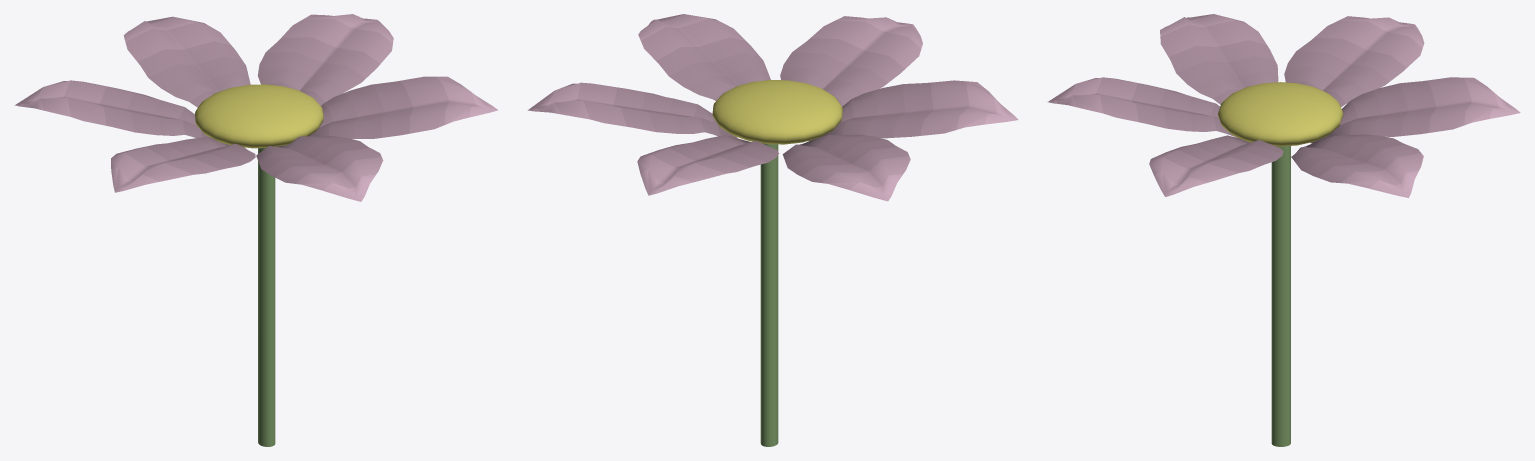
Rendered from pinkflowerallpetalsnew.fbx.
3 views of the same model, side by side, from view 1: azimuth 30°, elevation 25°; view 2: azimuth 150°, elevation 25°; view 3: azimuth 270°, elevation 25° (orthographic). The views are drawn at different scales.
Visible parts, largest first — view 1: pasted__pasted__pasted__pasted__pasted__polySurface1, pasted__pasted__pasted__pasted__pasted__pasted__polySurface1, pasted__pasted__pasted__pasted__polySurface1, pSphere1, pasted__pasted__pasted__polySurface1, pasted__polySurface1, pasted__pCylinder1, pasted__pasted__polySurface1; view 2: pasted__polySurface1, pasted__pasted__polySurface1, pasted__pasted__pasted__pasted__pasted__pasted__polySurface1, pSphere1, pasted__pasted__pasted__pasted__pasted__polySurface1, pasted__pasted__pasted__polySurface1, pasted__pCylinder1, pasted__pasted__pasted__pasted__polySurface1; view 3: pasted__pasted__pasted__polySurface1, pasted__pasted__pasted__pasted__polySurface1, pasted__pasted__polySurface1, pSphere1, pasted__pCylinder1, pasted__pasted__pasted__pasted__pasted__polySurface1, pasted__polySurface1, pasted__pasted__pasted__pasted__pasted__pasted__polySurface1.
Boxes of the visible parts, box(x1,y1,x2,y2) form: pasted__pasted__pasted__pasted__pasted__polySurface1: box(257, 14, 393, 105); pasted__pasted__pasted__pasted__pasted__pasted__polySurface1: box(309, 76, 497, 138); pasted__pasted__pasted__pasted__polySurface1: box(123, 16, 250, 107); pSphere1: box(195, 84, 323, 148); pasted__pasted__pasted__polySurface1: box(15, 80, 210, 138); pasted__polySurface1: box(256, 136, 383, 201); pasted__pCylinder1: box(258, 148, 275, 446); pasted__pasted__polySurface1: box(111, 136, 255, 192); pasted__polySurface1: box(780, 16, 922, 106); pasted__pasted__polySurface1: box(809, 80, 1018, 140); pasted__pasted__pasted__pasted__pasted__pasted__polySurface1: box(638, 14, 770, 100); pSphere1: box(712, 80, 842, 144); pasted__pasted__pasted__pasted__pasted__polySurface1: box(527, 82, 737, 138); pasted__pasted__pasted__polySurface1: box(782, 134, 910, 201); pasted__pCylinder1: box(760, 143, 778, 446); pasted__pasted__pasted__pasted__polySurface1: box(637, 135, 778, 195); pasted__pasted__pasted__polySurface1: box(1284, 16, 1424, 106); pasted__pasted__pasted__pasted__polySurface1: box(1311, 77, 1520, 143); pasted__pasted__polySurface1: box(1160, 14, 1278, 104); pSphere1: box(1217, 82, 1343, 146); pasted__pCylinder1: box(1271, 146, 1290, 446); pasted__pasted__pasted__pasted__pasted__polySurface1: box(1291, 134, 1423, 197); pasted__polySurface1: box(1047, 77, 1237, 137); pasted__pasted__pasted__pasted__pasted__pasted__polySurface1: box(1149, 135, 1283, 196).
Bounding box in the file's own units: 0.6459 × 0.5783 × 0.7152.
